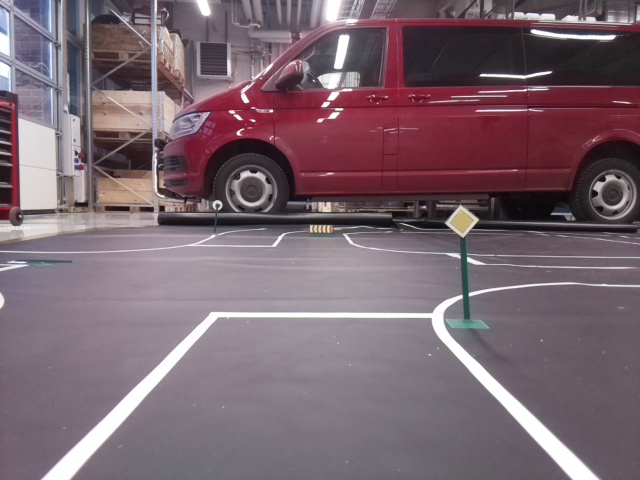Priority: (445, 204, 479, 237)
